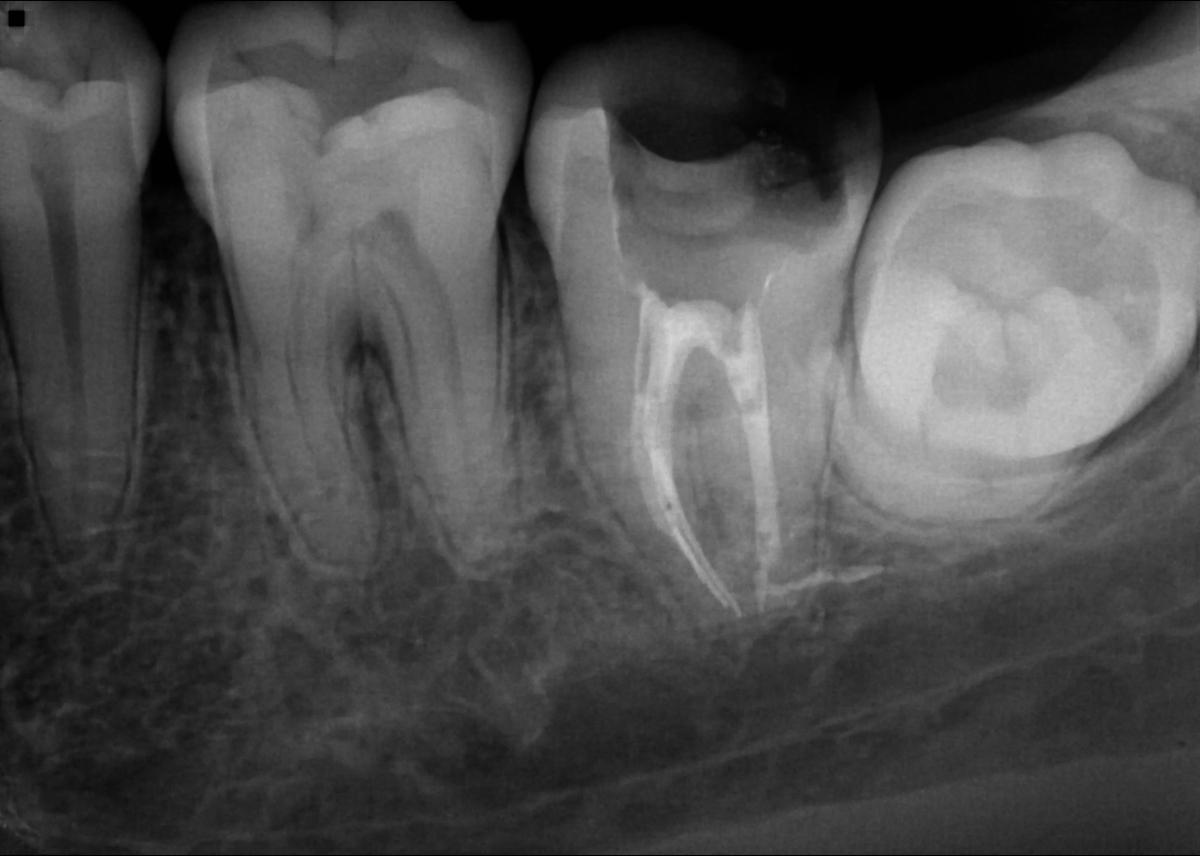Endo-Periodontal Lesion: (343, 331, 395, 392)
